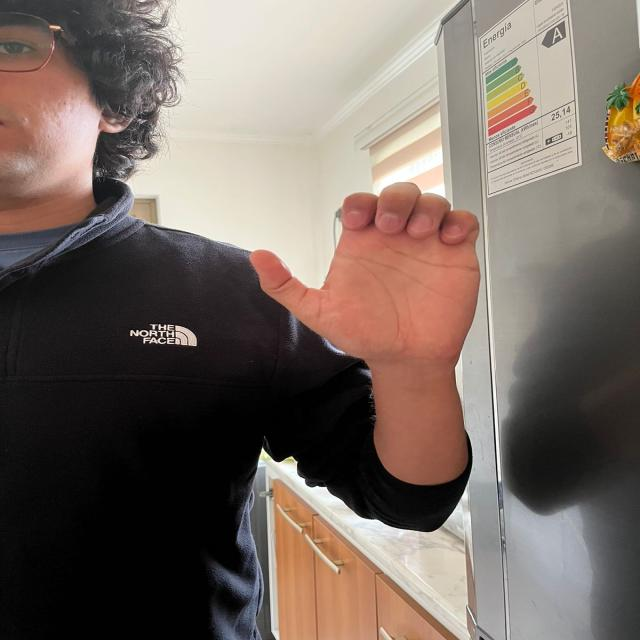E: (241, 177, 491, 363)
